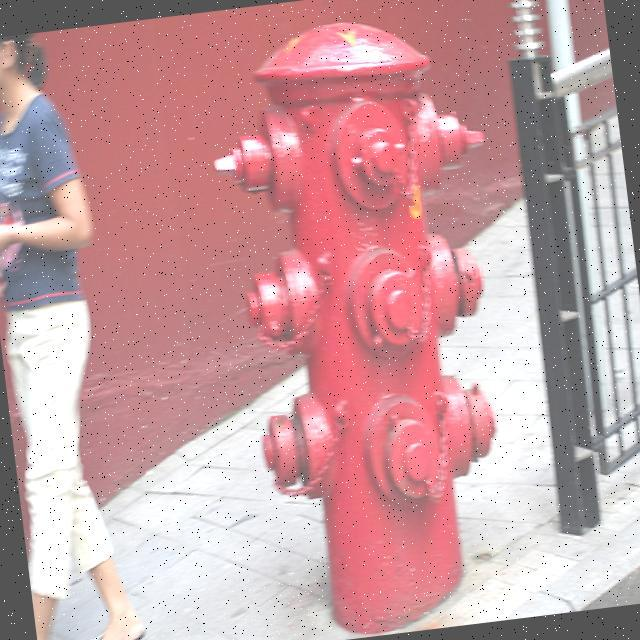fire_hydrant: (198, 30, 540, 640)
